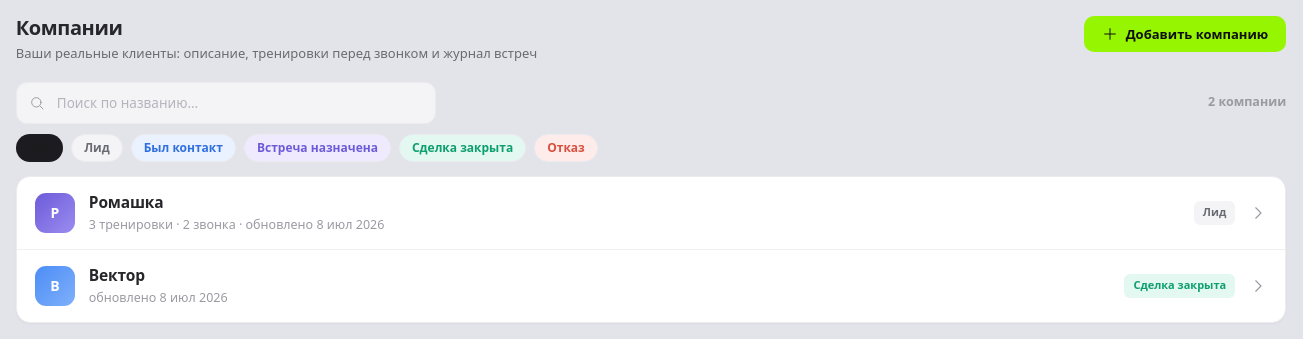
Test: CompaniesPage › filters the list client-side by status when a status chip is clicked
Expected: the text "Ромашка" is shown, top-left (89, 190), bottom-right (164, 212)
Expected: the text "Вектор" is shown, top-left (89, 264), bottom-right (145, 286)
Click the button "Сделка закрыта" at {"x": 463, "y": 148}, box top-left (399, 134), bottom-right (526, 162)
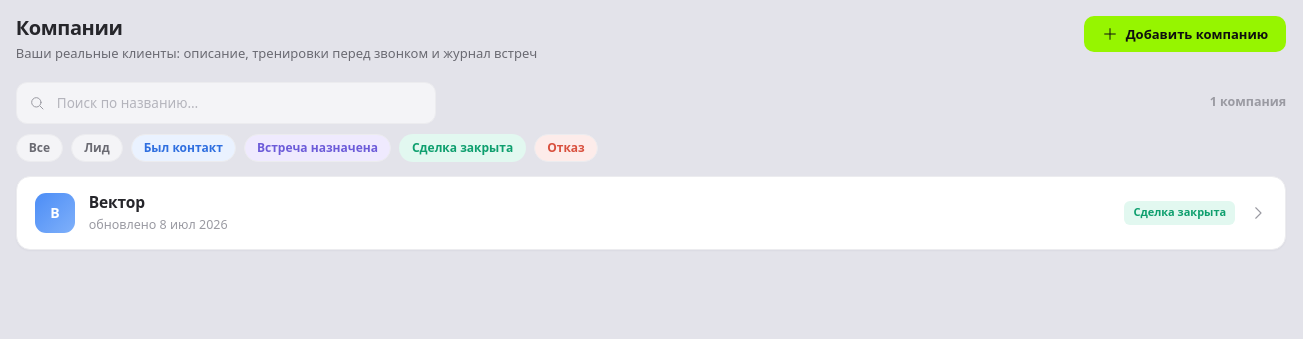
Expected: the text "Вектор" is shown, top-left (89, 190), bottom-right (145, 212)
Expected: the link "Ромашка" is gone
